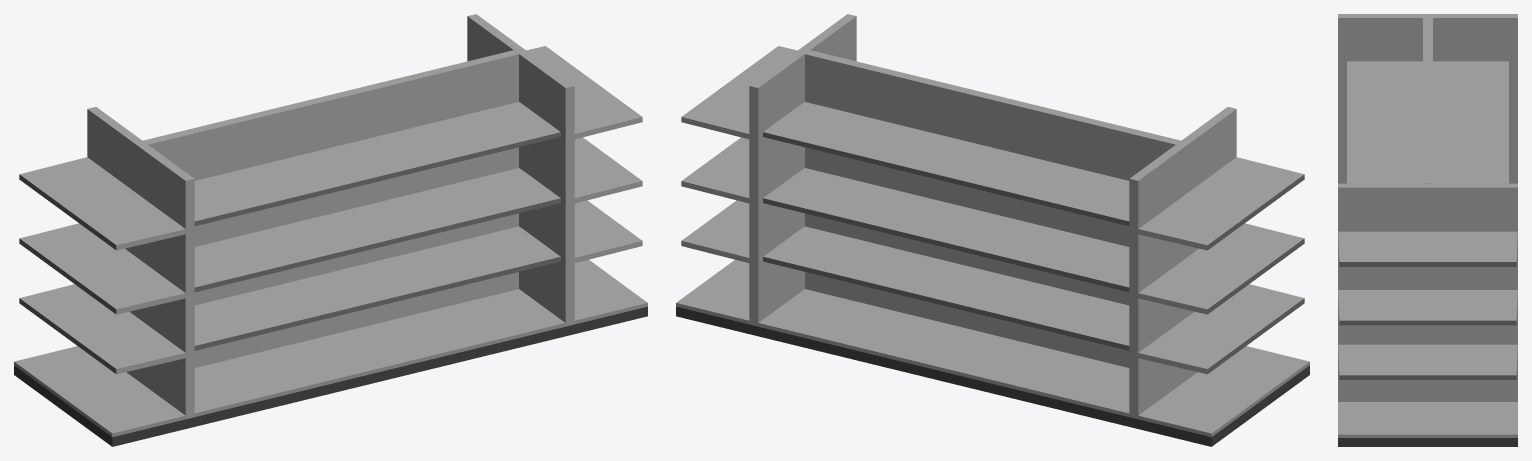
File: Two Sided Shelving Large w_End Caps #2.fbx
3 views of the same model, side by side, from view 1: azimuth 30°, elevation 25°; view 2: azimuth 150°, elevation 25°; view 3: azimuth 270°, elevation 25° (orthographic). The views are drawn at different scales.
Visible parts, largest first — view 1: Two Sided Shelving Large w_End Caps #2; view 2: Two Sided Shelving Large w_End Caps #2; view 3: Two Sided Shelving Large w_End Caps #2.
Part boxes in pixels (bbox=[...]): Two Sided Shelving Large w_End Caps #2: bbox=[14, 14, 647, 446]; Two Sided Shelving Large w_End Caps #2: bbox=[676, 14, 1309, 446]; Two Sided Shelving Large w_End Caps #2: bbox=[1338, 14, 1517, 446].
Bounding box in the file's own units: 359 × 159 × 114.
Materials: 1 (1 with a texture image).
